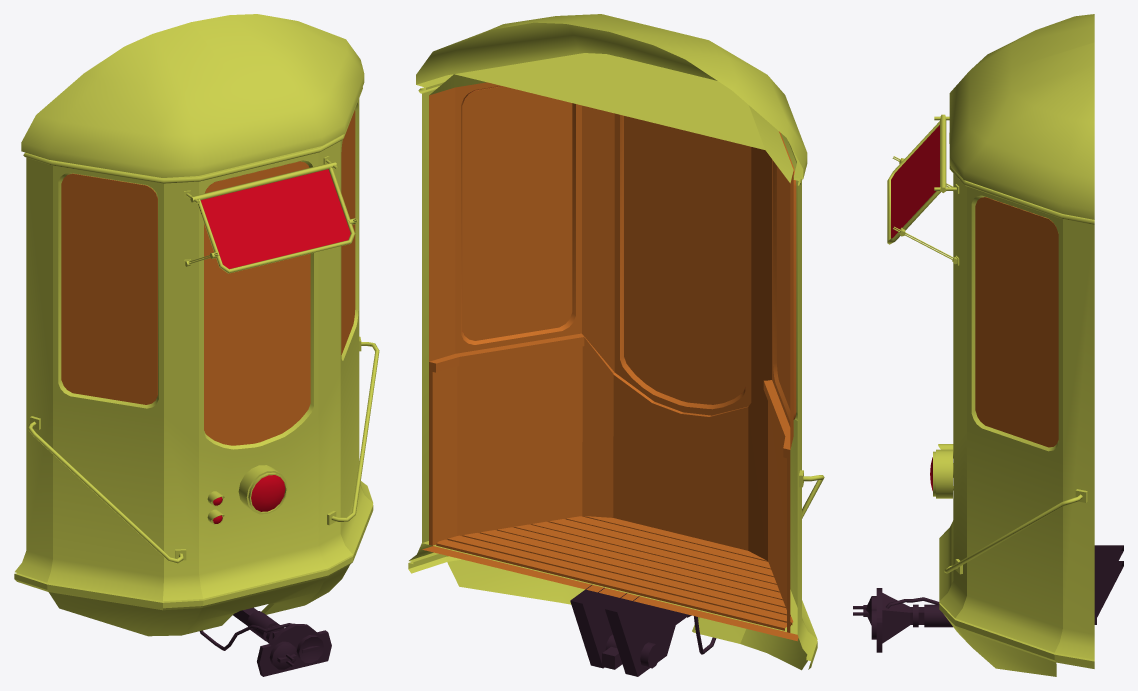
Rendered from vagon end 2 lod0.FBX.
3 views of the same model, side by side, from view 1: azimuth 30°, elevation 25°; view 2: azimuth 150°, elevation 25°; view 3: azimuth 270°, elevation 25° (orthographic). The views are drawn at different scales.
Parts seen in each view (by area): view 1: Box239, Group089; view 2: Box239; view 3: Box239, Group089.
Boxes of the visible parts, bbox=[...] form: Box239: bbox=[14, 14, 379, 676]; Group089: bbox=[188, 162, 357, 273]; Box239: bbox=[408, 14, 824, 676]; Box239: bbox=[853, 14, 1123, 676]; Group089: bbox=[887, 114, 954, 259].
Size of the model in its own units: 2.25 by 3.52 by 1.44.
